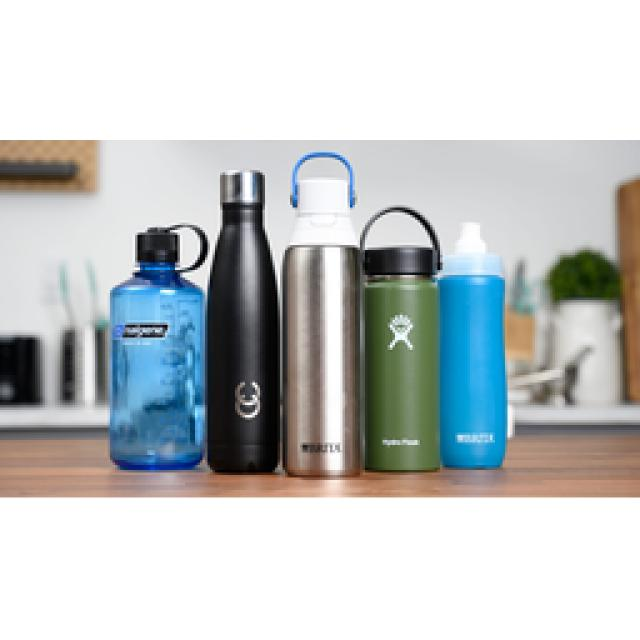plastic: (109, 225, 208, 472)
